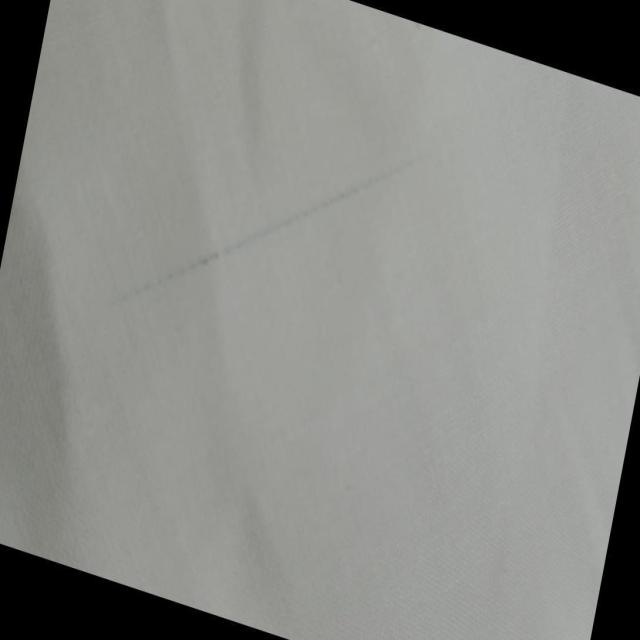contamination: (116, 190, 270, 344), (267, 119, 416, 275)
